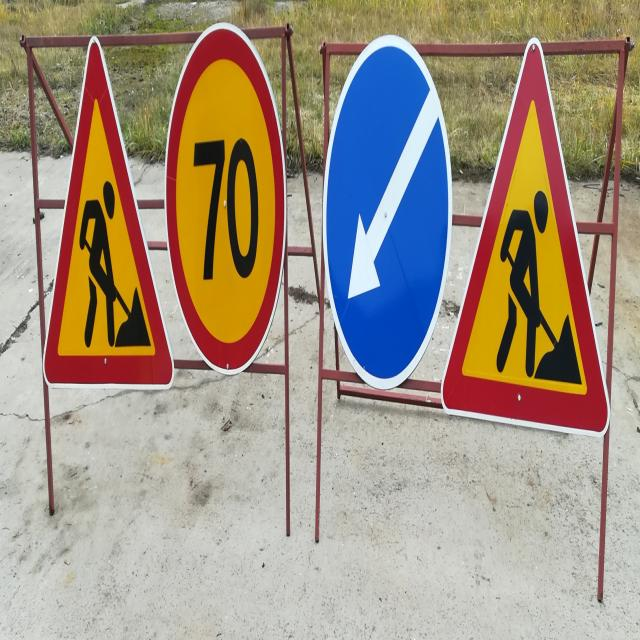Traffic sign: (446, 30, 619, 449), (38, 35, 173, 441), (320, 36, 450, 408), (168, 22, 288, 387)
